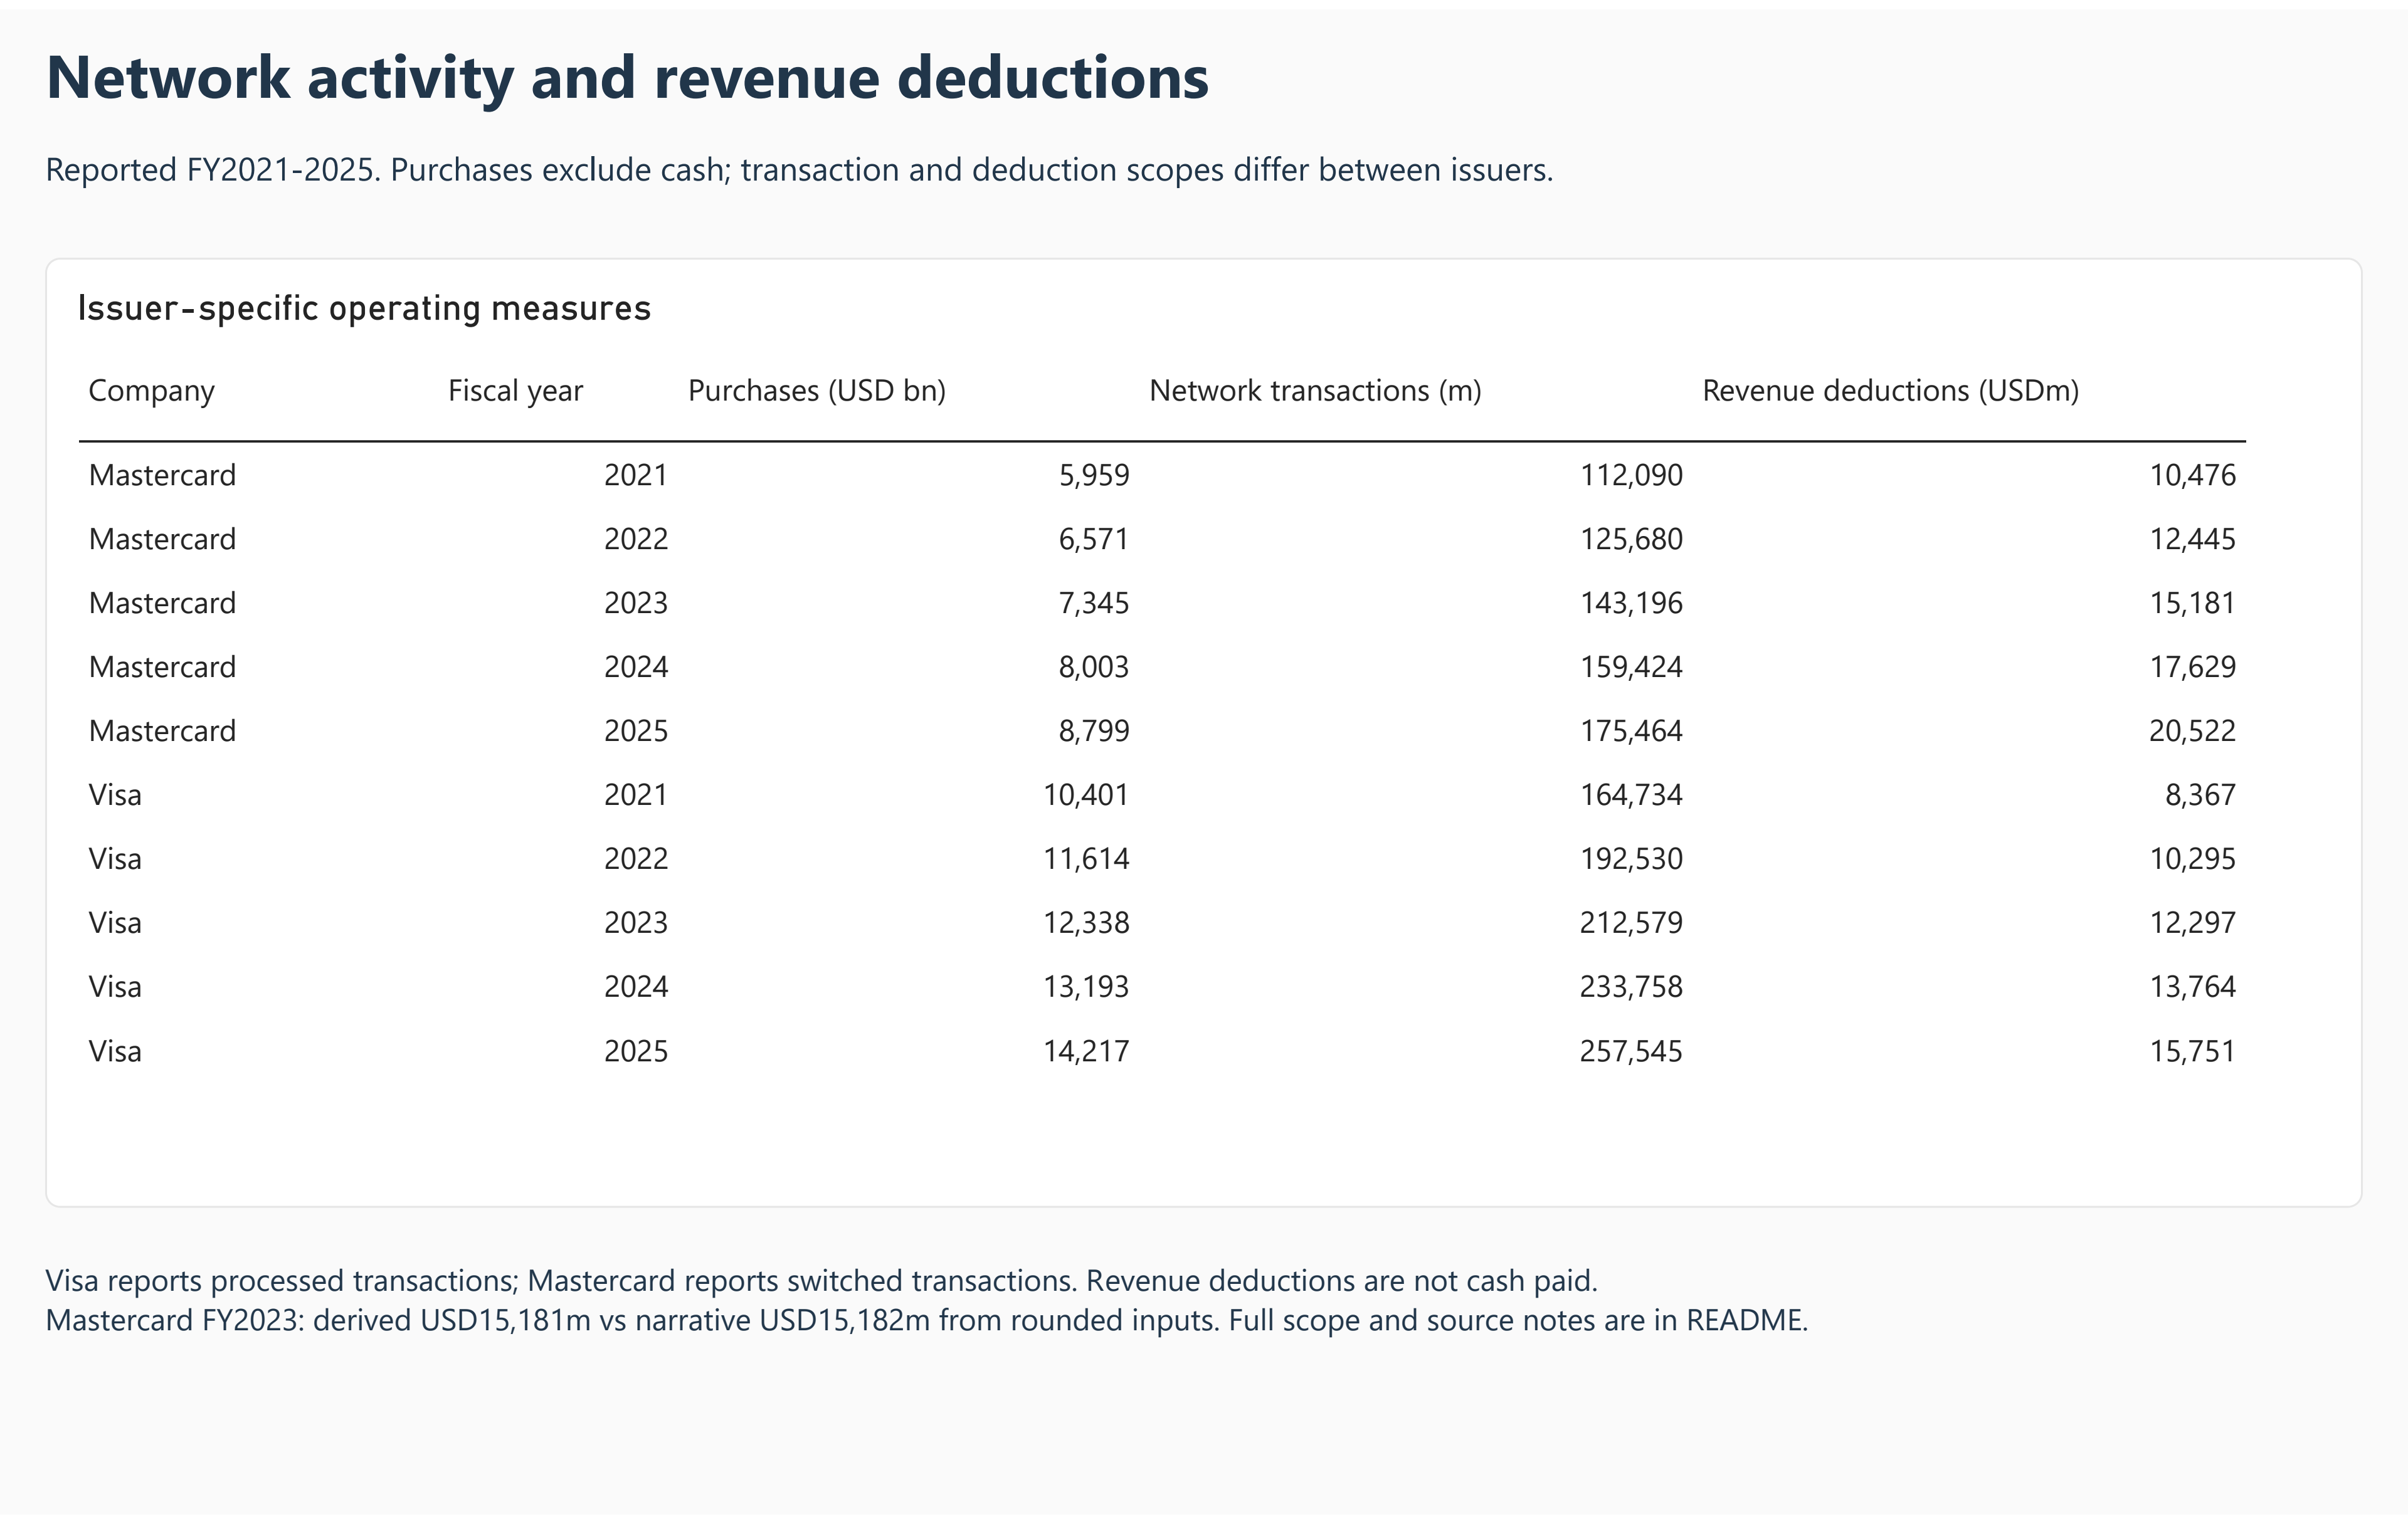

Layout of this report page (visuals, bound fields, positions):
{"tool":"powerbi","page":{"name":"07 Industry Activity","canvas":[1280,800],"ordinal":6},"visuals":[{"type":"tableEx","title":"Issuer-specific operating measures","fields":{"Values":["Companies.CompanyName","FiscalYears.FiscalYear","Financials.PurchasesUSDbn","Financials.NetworkTransactionsM","Financials.RevenueDeductionsUSDm"]},"box":[24,132,1232,505],"z":0},{"type":"textbox","box":[24,12,1232,58],"z":8000},{"type":"textbox","box":[24,72,1232,48],"z":8000},{"type":"textbox","box":[24,664,1232,95],"z":8000}]}

Visuals, with their boxes in screenshot pixels (x1, y1, x2, y2), scaled from the page's 1280x800 canvas onto the 2408x1524 screenshot:
"Issuer-specific operating measures" tableEx: left=45, top=251, right=2363, bottom=1214
textbox: left=45, top=23, right=2363, bottom=134
textbox: left=45, top=137, right=2363, bottom=229
textbox: left=45, top=1265, right=2363, bottom=1446
